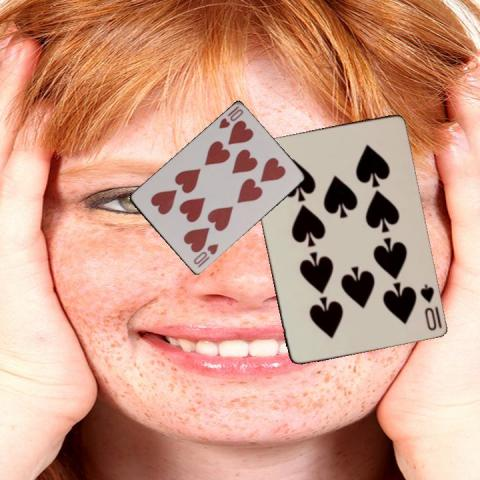10h: (215, 103, 245, 131), (191, 241, 220, 269)
10s: (417, 281, 438, 332)
